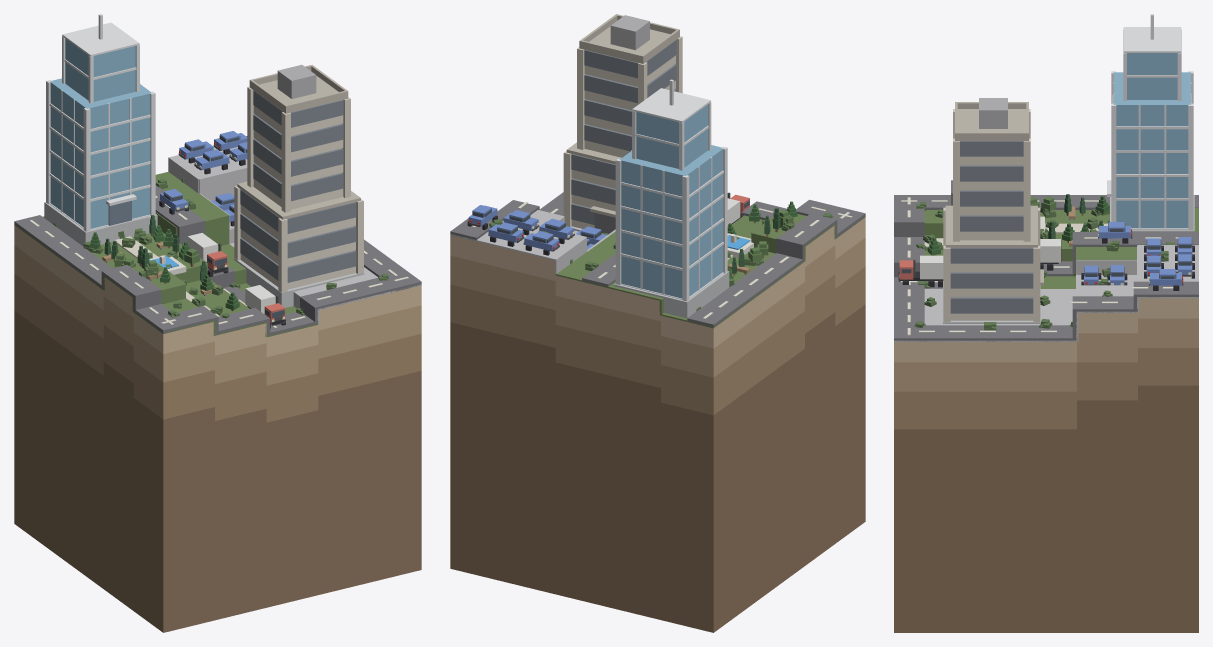
File: block_8_engineered_45.glb
3 views of the same model, side by side, from view 1: azimuth 30°, elevation 25°; view 2: azimuth 150°, elevation 25°; view 3: azimuth 270°, elevation 25° (orthographic). The views are drawn at different scales.
Visible parts, largest first — view 1: Patch_UpperLeft_b05_ES, Commercial_UpperLeft_ES, Roads_UpperLeft_b05_ES, Green_UpperLeft_j5_ES, Park_UpperLeft_ES, ULCar_025_ES, ULCar_024_ES, RoadMarks_UpperLeft_b05_ES, ULPark_Car02.001_ES; view 2: Patch_UpperLeft_b05_ES, Commercial_UpperLeft_ES, Roads_UpperLeft_b05_ES, Green_UpperLeft_j5_ES, Park_UpperLeft_ES, ULPark_Car00_ES, ULPark_Car00.001_ES; view 3: Patch_UpperLeft_b05_ES, Commercial_UpperLeft_ES, Roads_UpperLeft_b05_ES, Green_UpperLeft_j5_ES, ULCar_025_ES, RoadMarks_UpperLeft_b05_ES, ULCar_024_ES, ULCar_013_ES, ULCar_023_ES, Park_UpperLeft_ES.
Part boxes in pixels (bbox=[...]): Patch_UpperLeft_b05_ES: bbox=[14, 225, 421, 632]; Commercial_UpperLeft_ES: bbox=[44, 14, 364, 307]; Roads_UpperLeft_b05_ES: bbox=[14, 136, 421, 336]; Green_UpperLeft_j5_ES: bbox=[14, 147, 420, 337]; Park_UpperLeft_ES: bbox=[102, 233, 248, 316]; ULCar_025_ES: bbox=[245, 285, 285, 328]; ULCar_024_ES: bbox=[187, 233, 228, 276]; RoadMarks_UpperLeft_b05_ES: bbox=[29, 196, 408, 327]; ULPark_Car02.001_ES: bbox=[194, 149, 229, 174]; Patch_UpperLeft_b05_ES: bbox=[450, 217, 865, 632]; Commercial_UpperLeft_ES: bbox=[563, 14, 729, 318]; Roads_UpperLeft_b05_ES: bbox=[450, 192, 865, 327]; Green_UpperLeft_j5_ES: bbox=[450, 210, 864, 328]; Park_UpperLeft_ES: bbox=[727, 216, 794, 282]; ULPark_Car00_ES: bbox=[488, 222, 524, 246]; ULPark_Car00.001_ES: bbox=[523, 231, 559, 255]; Patch_UpperLeft_b05_ES: bbox=[894, 298, 1198, 632]; Commercial_UpperLeft_ES: bbox=[943, 14, 1194, 323]; Roads_UpperLeft_b05_ES: bbox=[894, 180, 1198, 341]; Green_UpperLeft_j5_ES: bbox=[894, 208, 1198, 341]; ULCar_025_ES: bbox=[898, 255, 943, 287]; RoadMarks_UpperLeft_b05_ES: bbox=[901, 197, 1178, 335]; ULCar_024_ES: bbox=[1040, 239, 1061, 270]; ULCar_013_ES: bbox=[1149, 269, 1183, 290]; ULCar_023_ES: bbox=[1098, 222, 1132, 243]; Park_UpperLeft_ES: bbox=[924, 206, 1108, 255].
Bounding box in the file's own units: 9.5 × 17.92 × 9.5.
